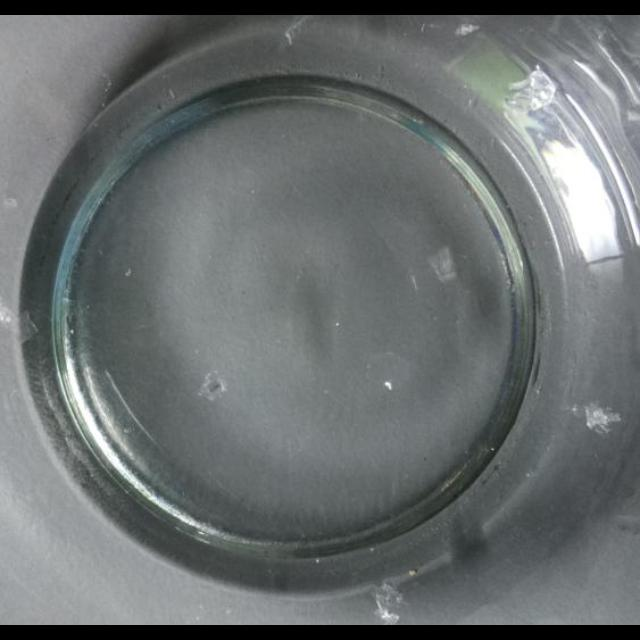Fibre: (373, 582, 405, 622), (581, 405, 623, 435), (427, 246, 457, 284), (196, 371, 228, 402), (454, 22, 478, 36)
microbeads: (384, 381, 394, 391)
